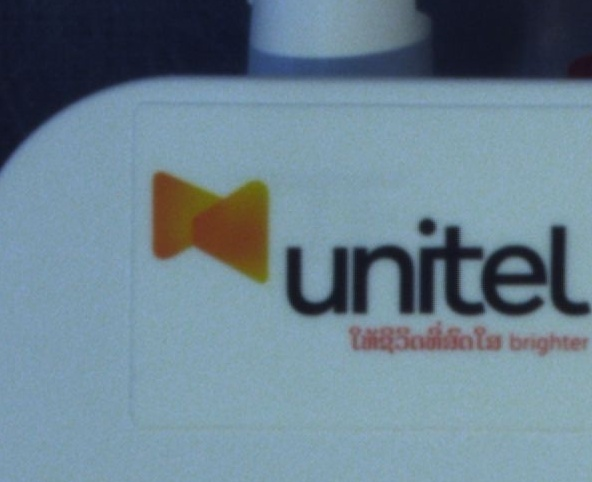BT_unitel: (147, 167, 591, 354)
